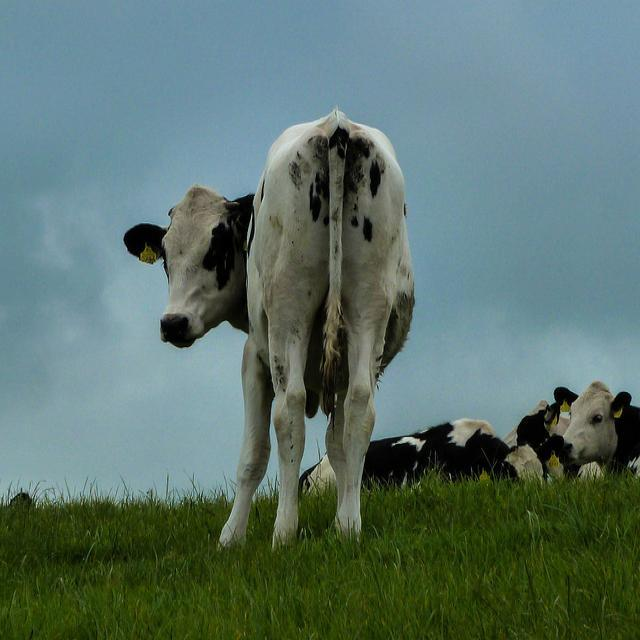cow: (122, 108, 416, 551), (297, 412, 563, 495), (552, 380, 638, 477)
